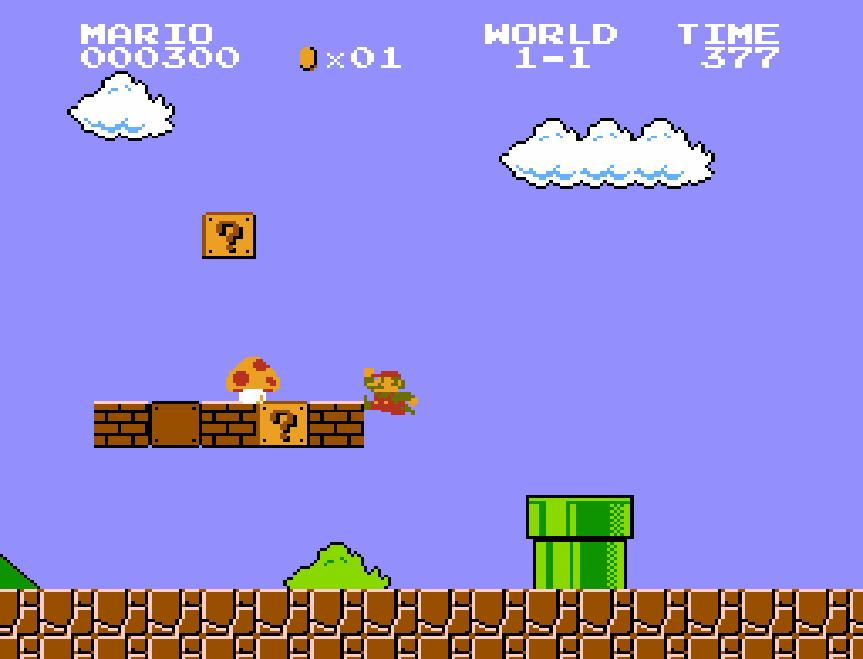little_mario: (362, 367, 420, 416)
